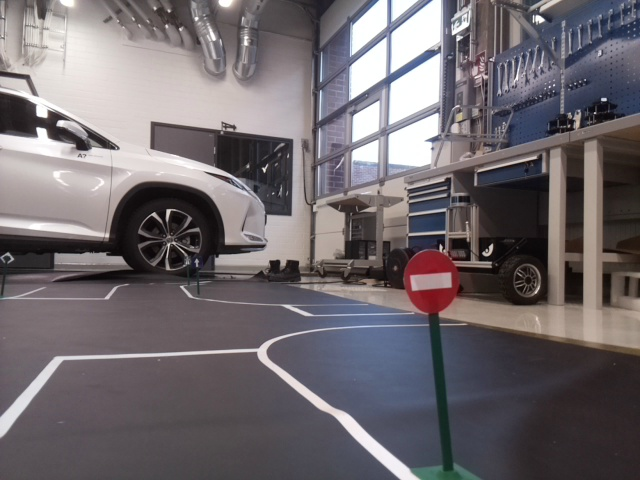NoEntry: (401, 251, 457, 314)
